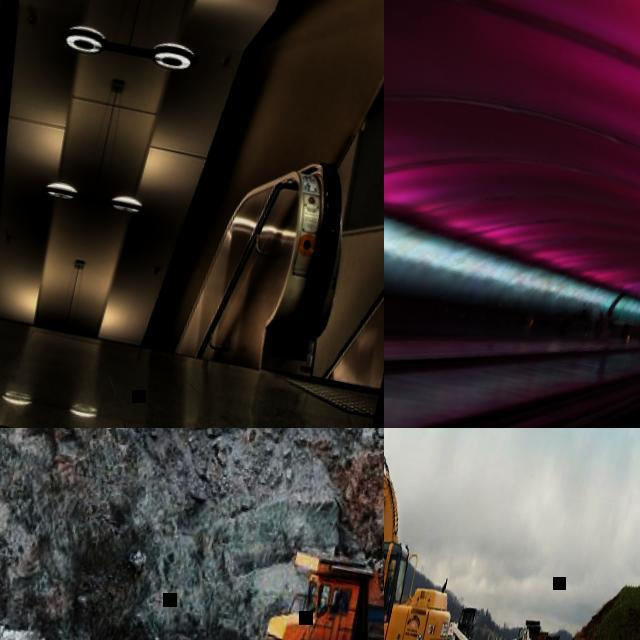machinery: (384, 428, 492, 640), (242, 527, 384, 640), (437, 602, 495, 640), (502, 615, 571, 640), (513, 626, 546, 640)
